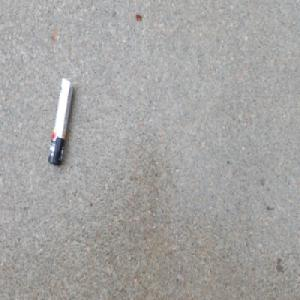Battery: (46, 76, 74, 168)
